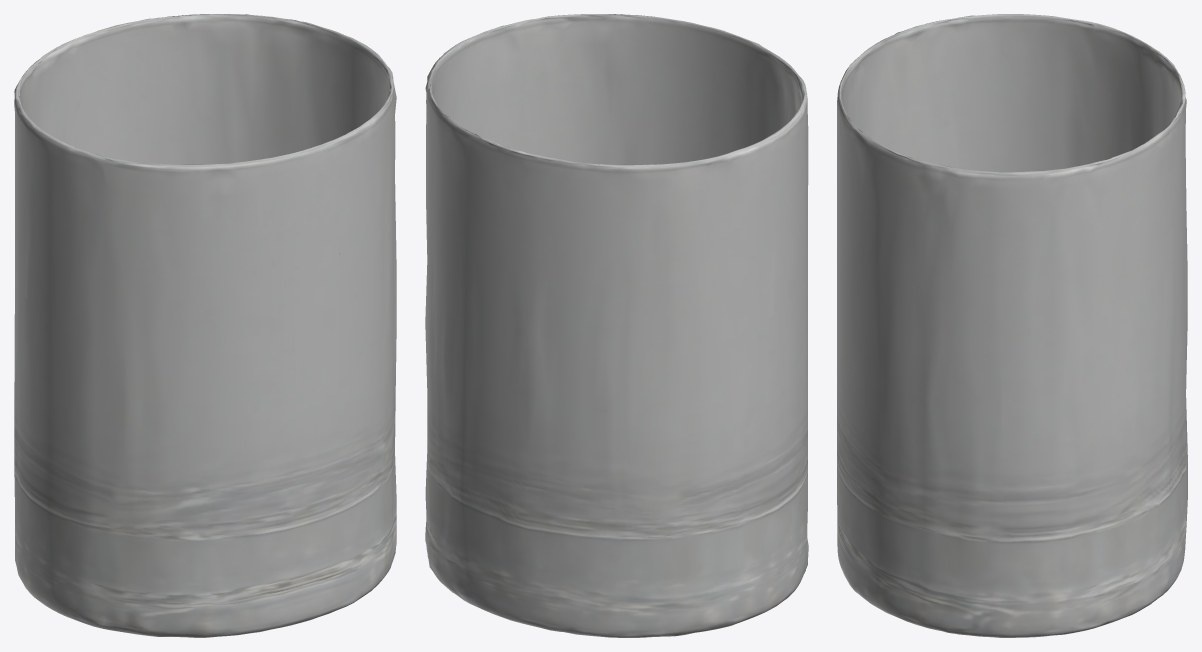
File: desktop.glb
3 renders of one model, left to right at view 1: azimuth 30°, elevation 25°; view 2: azimuth 150°, elevation 25°; view 3: azimuth 270°, elevation 25°, orthographic.
Visible parts, largest first — view 1: glass; view 2: glass; view 3: glass.
Part boxes in pixels (bbox=[...]): glass: bbox=[14, 14, 396, 637]; glass: bbox=[425, 14, 808, 637]; glass: bbox=[837, 14, 1187, 637].
Size of the model in its own units: 0.1037 by 0.14 by 0.0951.
1 material, 1 textured.
